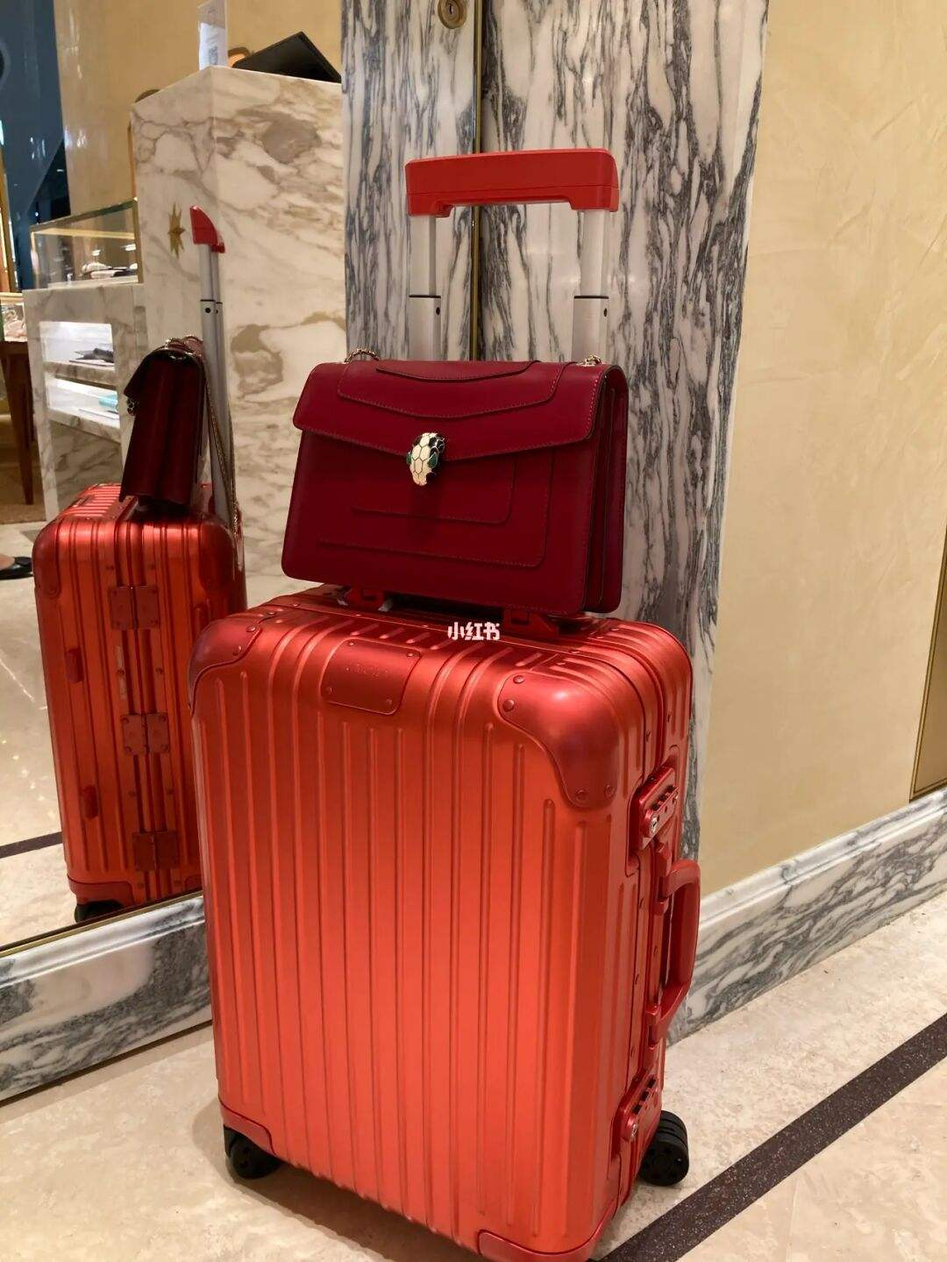box: (186, 584, 694, 1262), (31, 481, 246, 909)
handle: (644, 845, 700, 1073)
lock: (612, 1063, 659, 1157), (630, 765, 679, 854)
wheel: (637, 1110, 689, 1186), (223, 1125, 282, 1180)
